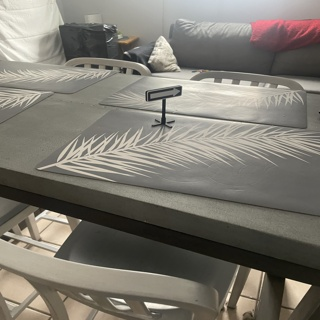sign_oneway_right: (145, 83, 179, 103)
